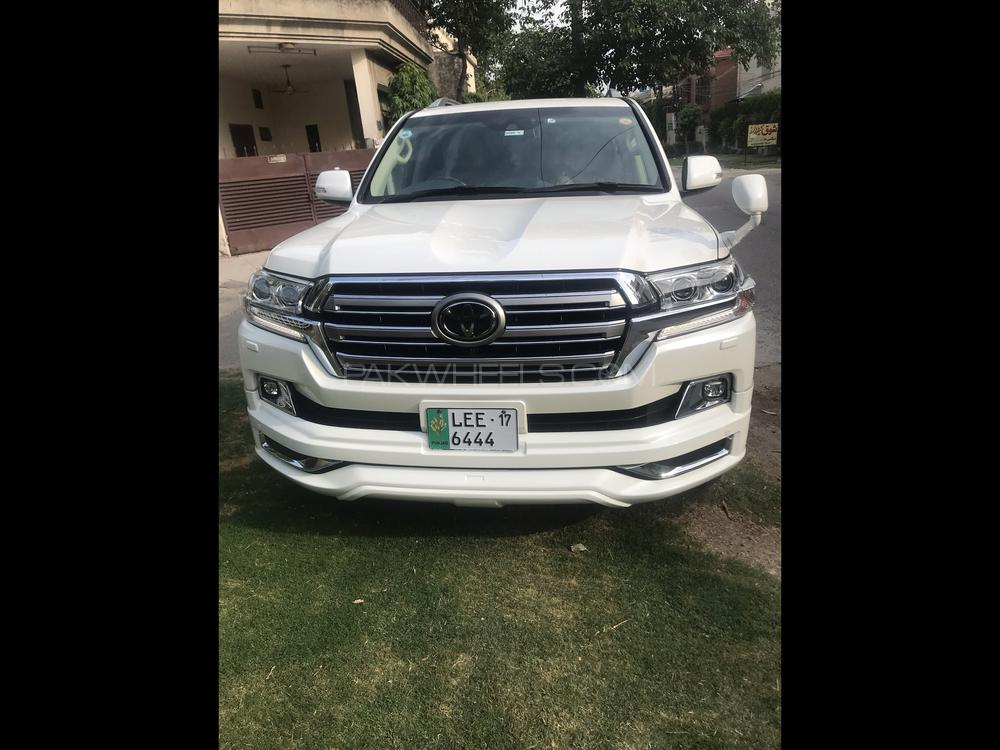license plate: (427, 408, 517, 450)
